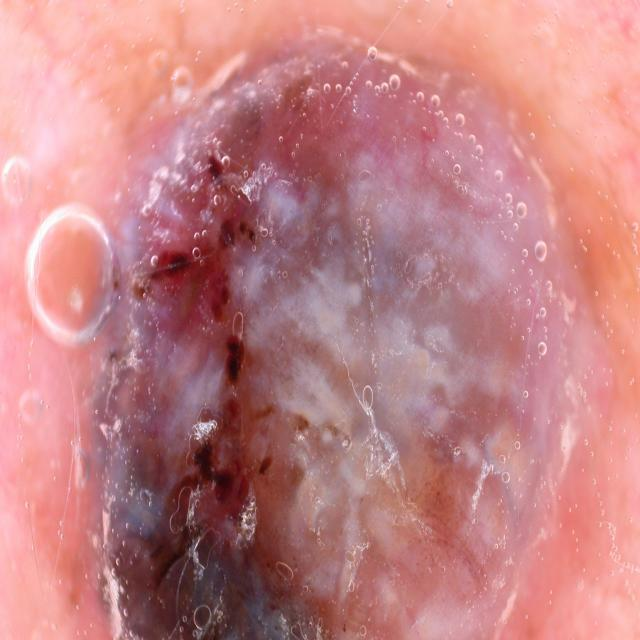Melanoma: (73, 43, 632, 640)
